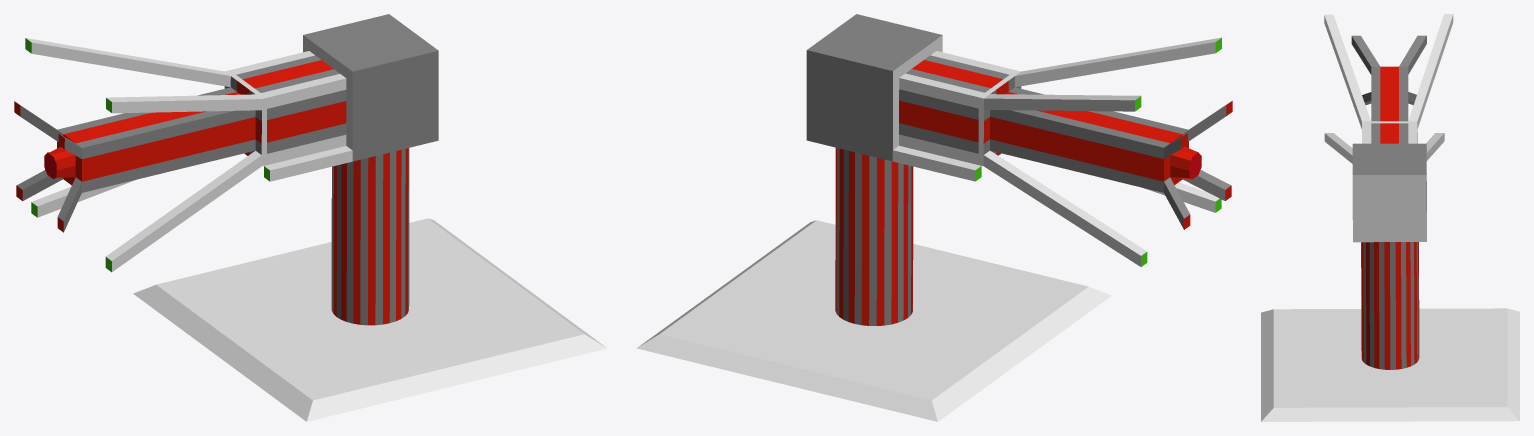
File: laser tower.fbx
The picture shows the model from 3 angles, left to right: view 1: azimuth 30°, elevation 25°; view 2: azimuth 150°, elevation 25°; view 3: azimuth 270°, elevation 25°; orthographic projection. The views are drawn at different scales.
Parts seen in each view (by area): view 1: gunbarrer, baseplate, draagcilinder; view 2: gunbarrer, baseplate, draagcilinder; view 3: baseplate, gunbarrer, draagcilinder.
Boxes of the visible parts, x1,y1,x2,y2 form: gunbarrer: [14, 14, 438, 272]; baseplate: [133, 218, 607, 421]; draagcilinder: [331, 148, 409, 325]; gunbarrer: [806, 14, 1232, 266]; baseplate: [636, 220, 1111, 421]; draagcilinder: [835, 147, 913, 325]; baseplate: [1261, 308, 1519, 421]; gunbarrer: [1324, 14, 1453, 242]; draagcilinder: [1361, 242, 1419, 369].
Size of the model in its own units: 320 by 207 by 200.
